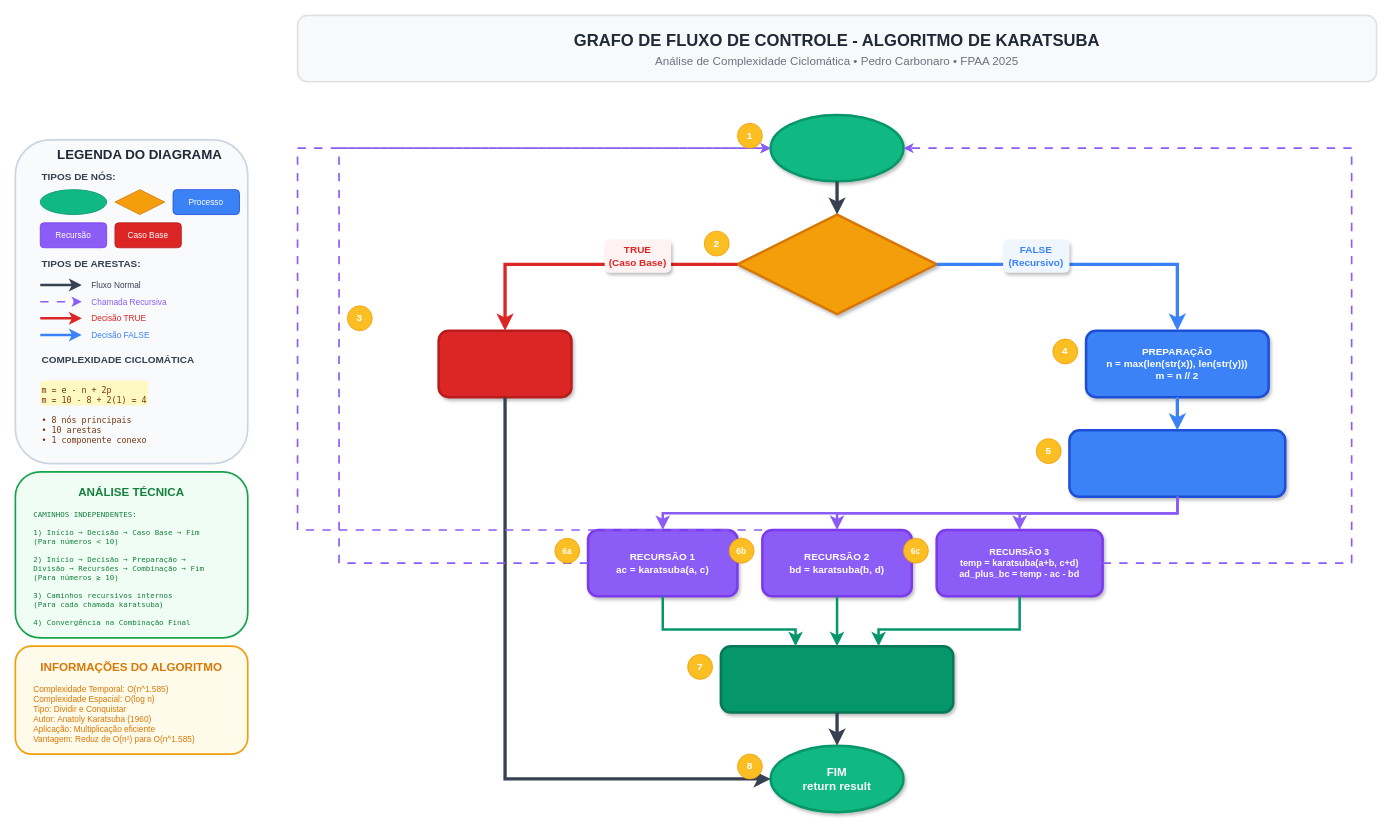
Some shapes in this 1391 by 833 pixel diagram are drawn without their labels. Each missing label, with the centre of its shape:
CASO BASE return x * y: pixel 505 365
COMBINAÇÃO FINAL result = ac × 10^(2m) + ad_plus_bc × 10^m + bd: pixel 837 680
Decisão: pixel 139 202
DIVISÃO a = x // (10^m) b = x % (10^m) c = y // (10^m) d = y % (10^m): pixel 1177 464
INÍCIO karatsuba(x, y): pixel 837 149
Início/Fim: pixel 73 202
x < 10 OR y < 10 ?: pixel 837 265
